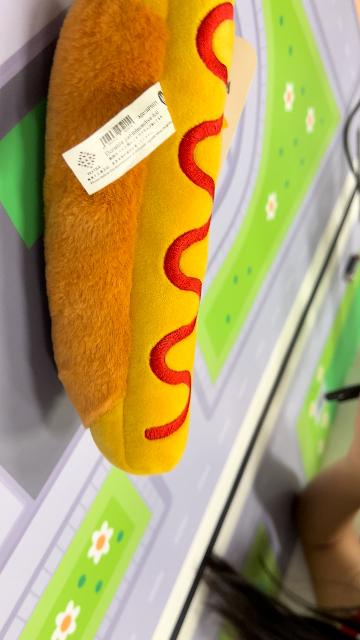hotdog: (41, 2, 239, 478)
